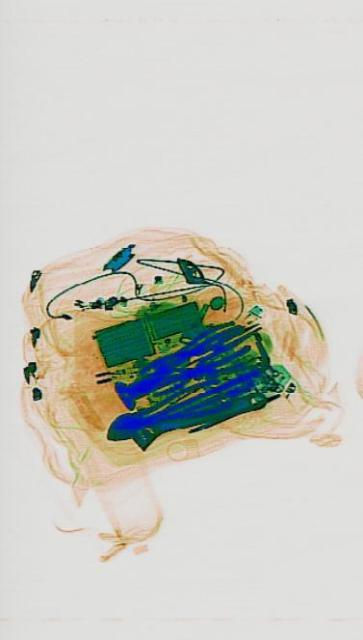Pliers: (139, 313, 250, 393)
Wrench: (104, 373, 267, 459)
